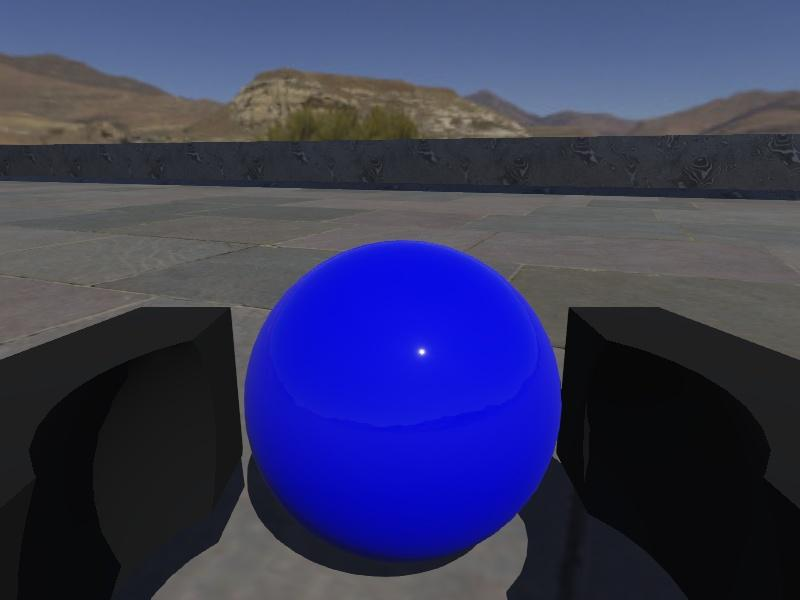blue ball: (244, 239, 562, 563)
